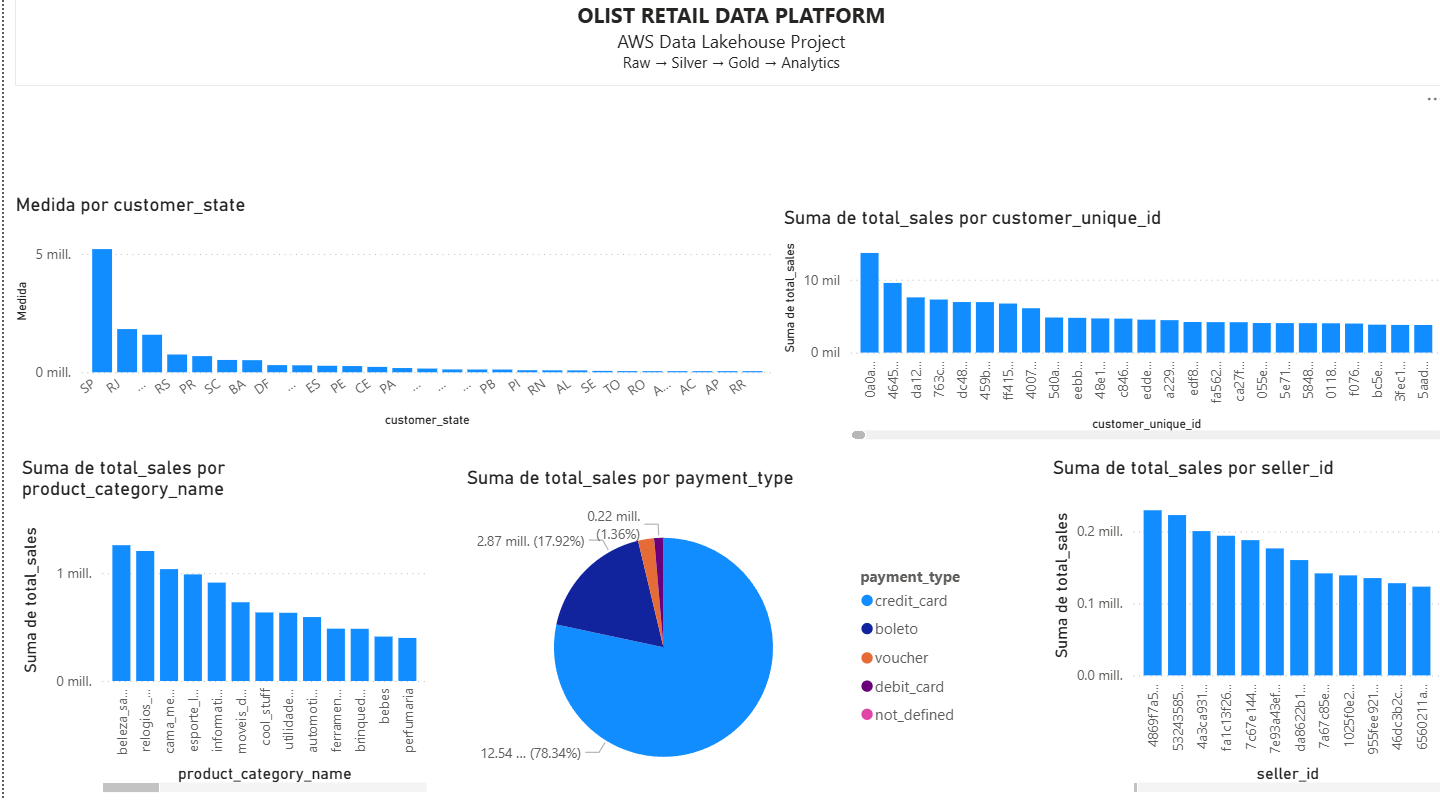

The dashboard page shown, as its layout file describes it:
{"tool":"powerbi","page":{"name":"Página 1","canvas":[1280,720],"ordinal":0},"visuals":[{"type":"textbox","box":[9.5,0,1270.5,80.9],"z":0},{"type":"clusteredColumnChart","fields":{"Category":["sales_by_state.customer_state"],"Y":["sales_by_state.Medida"]},"box":[5.1,175.9,681.2,212],"z":1000},{"type":"columnChart","fields":{"Category":["sales_by_category.product_category_name"],"Y":["Sum(sales_by_category.total_sales)"]},"box":[10.3,408.5,369.4,302.5],"z":1001},{"type":"columnChart","fields":{"Category":["sales_by_payment_type.payment_type"],"Y":["Sum(sales_by_payment_type.total_sales)"]},"box":[405.4,417.7,465.1,302.5],"z":1002},{"type":"columnChart","fields":{"Y":["Sum(top_sellers.total_sales)"],"Category":["top_sellers.seller_id"]},"box":[925,408.5,355,302.5],"z":1003},{"type":"columnChart","fields":{"Category":["top_customers.customer_unique_id"],"Y":["Sum(top_customers.total_sales)"]},"box":[686.3,187.3,593.7,212],"z":1004}]}

Visuals, with their boxes in screenshot pixels (x1, y1, x2, y2), scaled from the page's 1280x720 canvas onto the 1440x800 screenshot:
textbox: 11 0 1439 90
clusteredColumnChart - sales_by_state.customer_state x sales_by_state.Medida: 6 195 772 431
columnChart - sales_by_category.product_category_name x Sum(sales_by_category.total_sales): 12 454 427 790
columnChart - sales_by_payment_type.payment_type x Sum(sales_by_payment_type.total_sales): 456 464 979 799
columnChart - Sum(top_sellers.total_sales) x top_sellers.seller_id: 1041 454 1439 790
columnChart - top_customers.customer_unique_id x Sum(top_customers.total_sales): 772 208 1439 444
